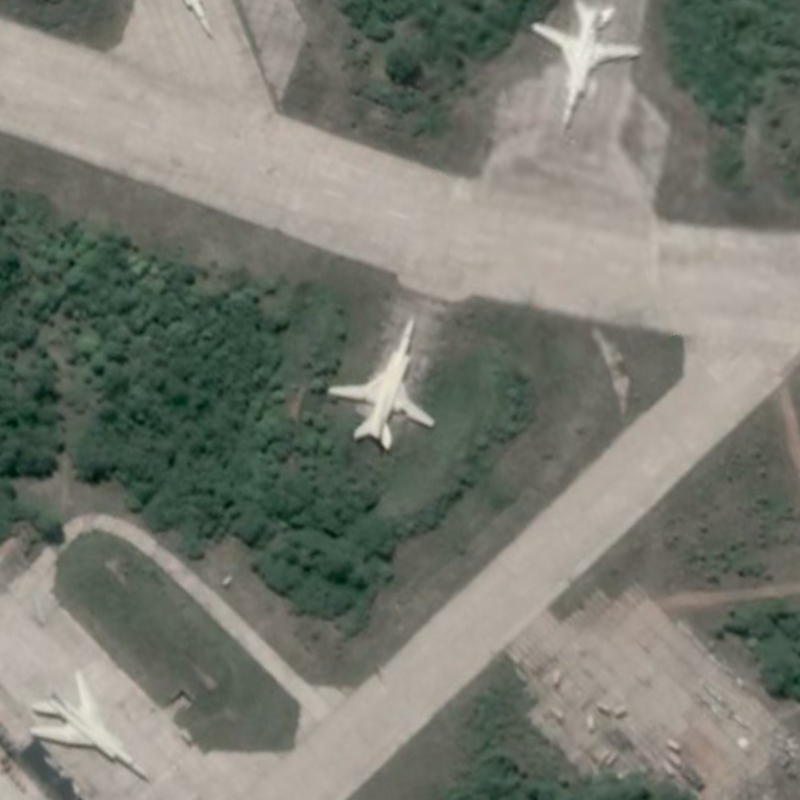A12: (529, 1, 645, 139), (325, 314, 438, 454), (26, 666, 156, 786)
